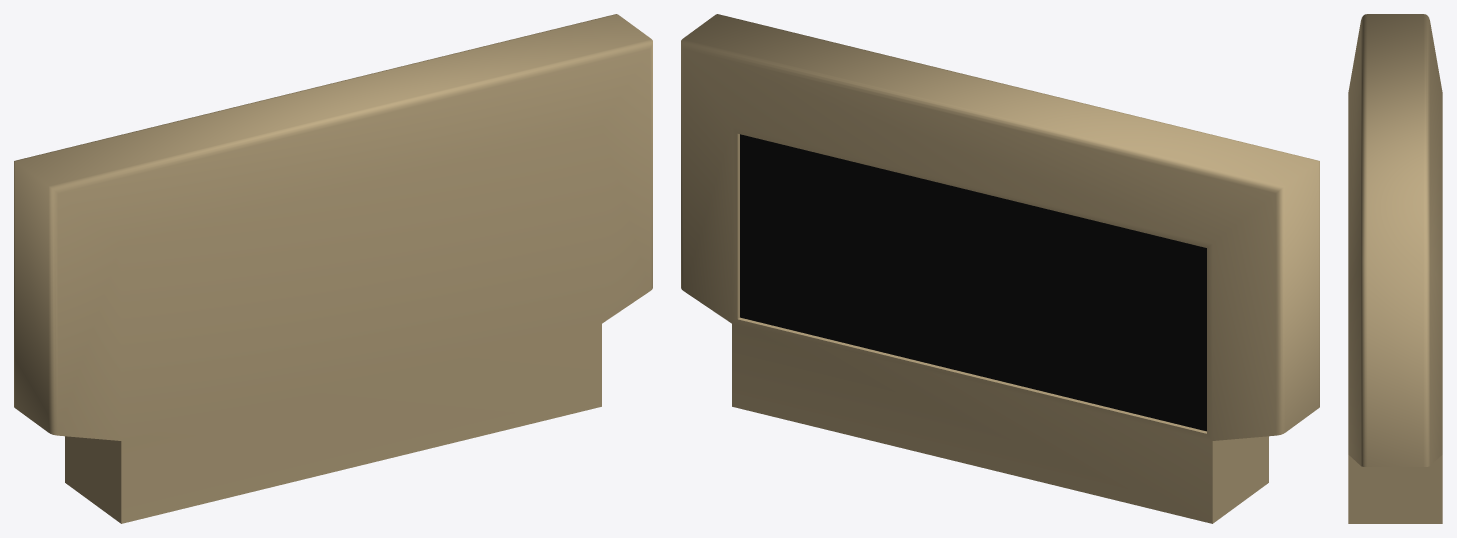
Rendered from Cardridge.fbx.
3 renders of one model, left to right at view 1: azimuth 30°, elevation 25°; view 2: azimuth 150°, elevation 25°; view 3: azimuth 270°, elevation 25°, orthographic. The views are drawn at different scales.
Visible parts, largest first — view 1: Cardridge; view 2: Cardridge; view 3: Cardridge.
Boxes of the visible parts, left/top/right/bottom form: Cardridge: left=14, top=14, right=652, bottom=523; Cardridge: left=681, top=14, right=1319, bottom=523; Cardridge: left=1348, top=14, right=1442, bottom=523.
Size of the model in its own units: 108 by 59.02 by 17.47.
